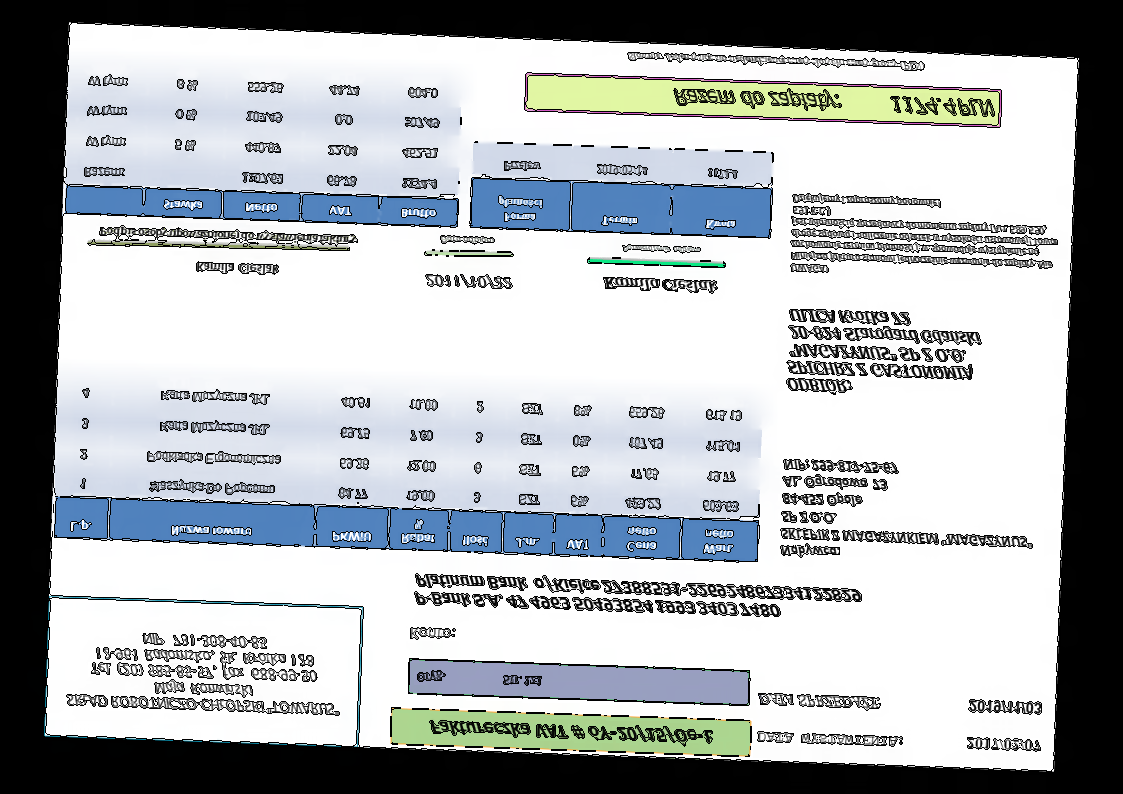Table: (53, 373, 764, 564), (64, 63, 465, 229), (469, 140, 774, 240)
TextBox: (778, 455, 1038, 568), (64, 628, 345, 719), (788, 191, 1063, 283), (411, 571, 862, 624), (785, 306, 985, 400), (671, 84, 998, 123), (427, 715, 716, 748), (626, 48, 927, 76), (96, 222, 360, 249), (753, 728, 906, 750), (414, 667, 543, 690), (756, 691, 884, 713), (602, 274, 721, 297), (423, 272, 514, 293), (965, 733, 1043, 756), (966, 697, 1044, 718), (193, 259, 280, 277), (620, 242, 701, 257), (407, 623, 457, 643), (438, 232, 495, 247)
